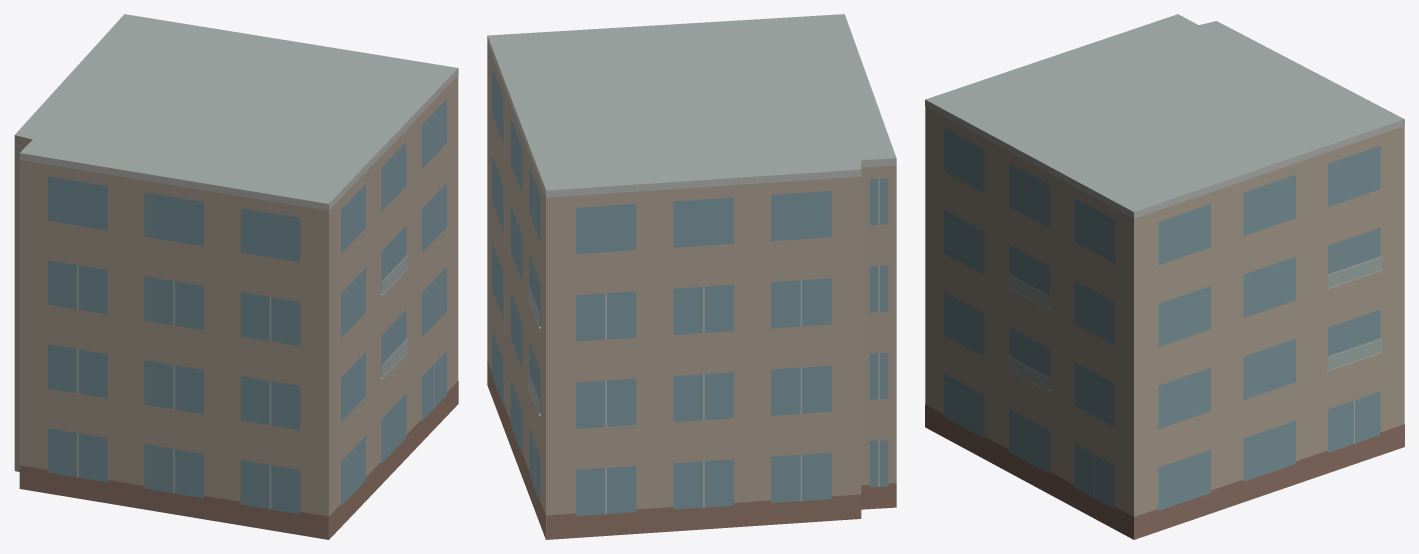
File: survey-upis-32489568.glb
The picture shows the model from 3 angles, left to right: view 1: azimuth 30°, elevation 25°; view 2: azimuth 150°, elevation 25°; view 3: azimuth 270°, elevation 25°; orthographic projection. The views are drawn at different scales.
Parts seen in each view (by area): view 1: survey-upis-32489568.tmp; view 2: survey-upis-32489568.tmp; view 3: survey-upis-32489568.tmp.
Part boxes in pixels (left/top/right/bottom): survey-upis-32489568.tmp: left=14, top=14, right=458, bottom=539; survey-upis-32489568.tmp: left=487, top=14, right=896, bottom=539; survey-upis-32489568.tmp: left=925, top=14, right=1404, bottom=539.
Bounding box in the file's own units: 15.57 × 12 × 15.93.
